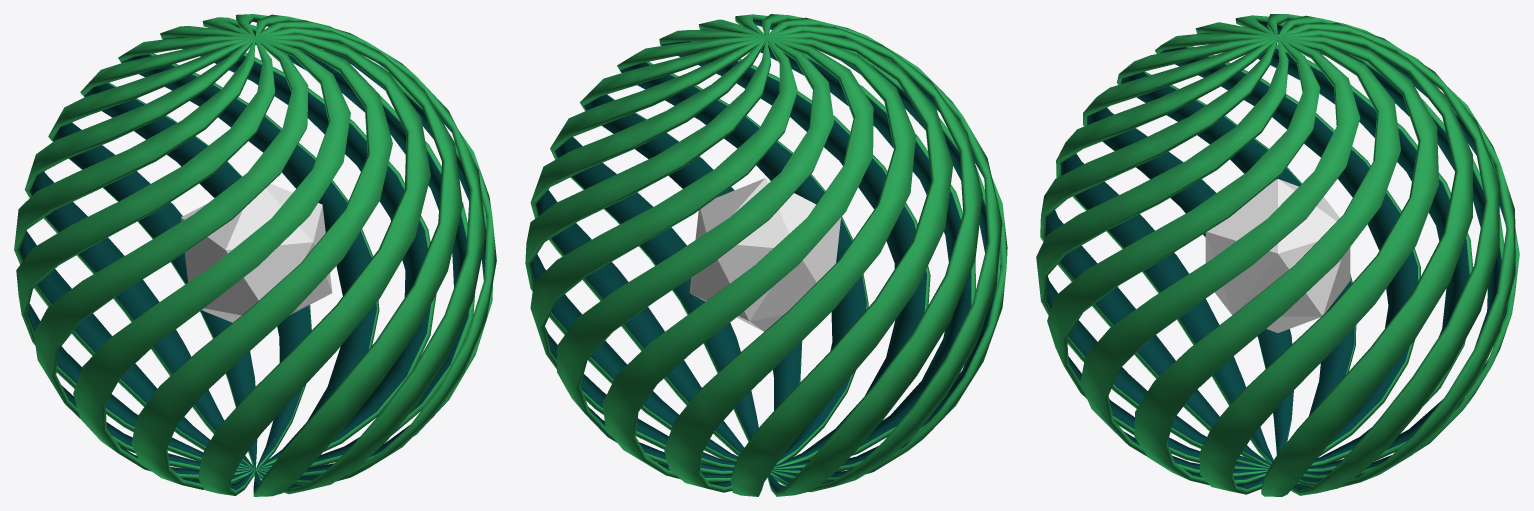
The model's file is CORE2.fbx.
The picture shows the model from 3 angles, left to right: view 1: azimuth 30°, elevation 25°; view 2: azimuth 150°, elevation 25°; view 3: azimuth 270°, elevation 25°; orthographic projection.
Parts seen in each view (by area): view 1: Sphere.004, Icosphere.011; view 2: Sphere.004, Icosphere.011; view 3: Sphere.004, Icosphere.011.
Boxes of the visible parts, box(x1,y1,x2,y2) form: Sphere.004: box(14, 14, 496, 496); Icosphere.011: box(181, 183, 332, 322); Sphere.004: box(525, 14, 1007, 496); Icosphere.011: box(689, 178, 840, 331); Sphere.004: box(1036, 14, 1519, 496); Icosphere.011: box(1205, 179, 1350, 332).
Bounding box in the file's own units: 200 × 200 × 200.
